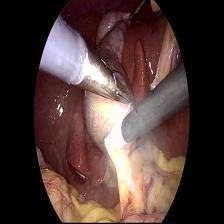Grasper: (108, 64, 134, 107)
Hook: (100, 122, 138, 160)
